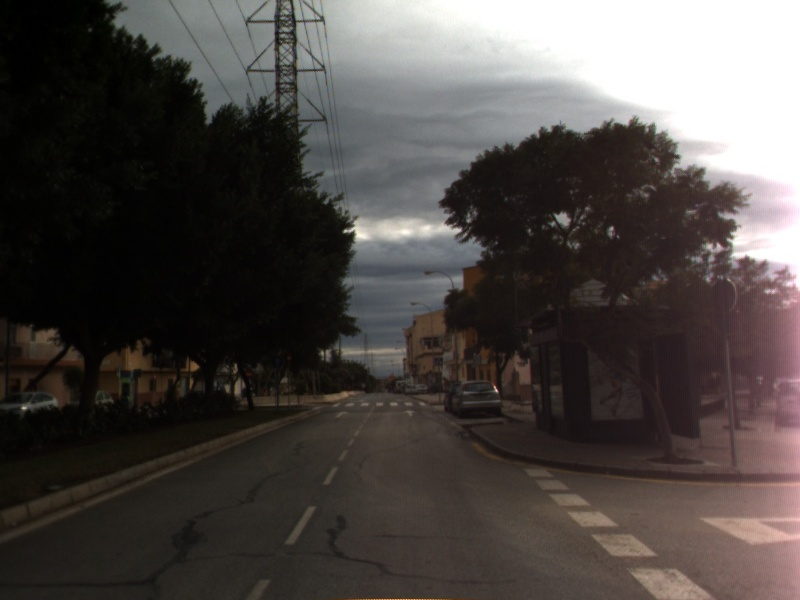STRAIGHT: (332, 408, 352, 420), (401, 407, 419, 418)
